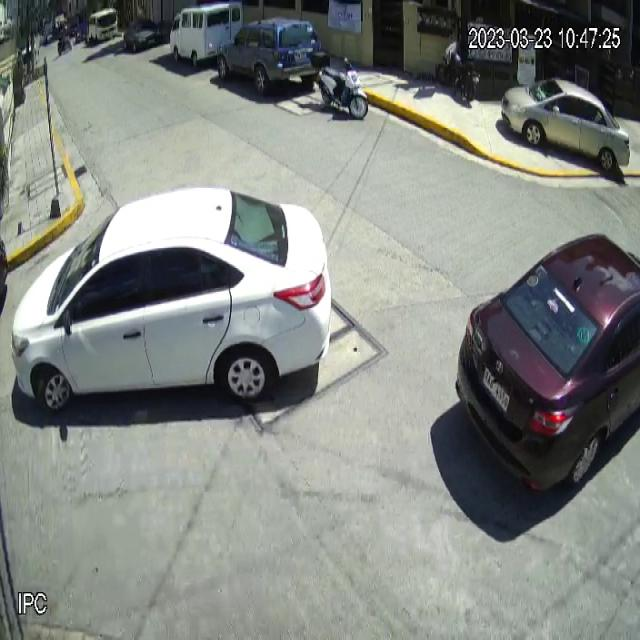Car: (11, 182, 331, 420), (453, 227, 640, 500), (501, 76, 630, 170), (217, 16, 322, 95)
Motorcycle: (311, 51, 368, 120)
Van: (169, 0, 244, 65)
